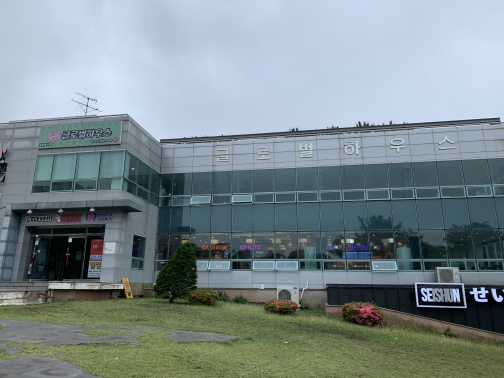Global House: (1, 118, 499, 309)
